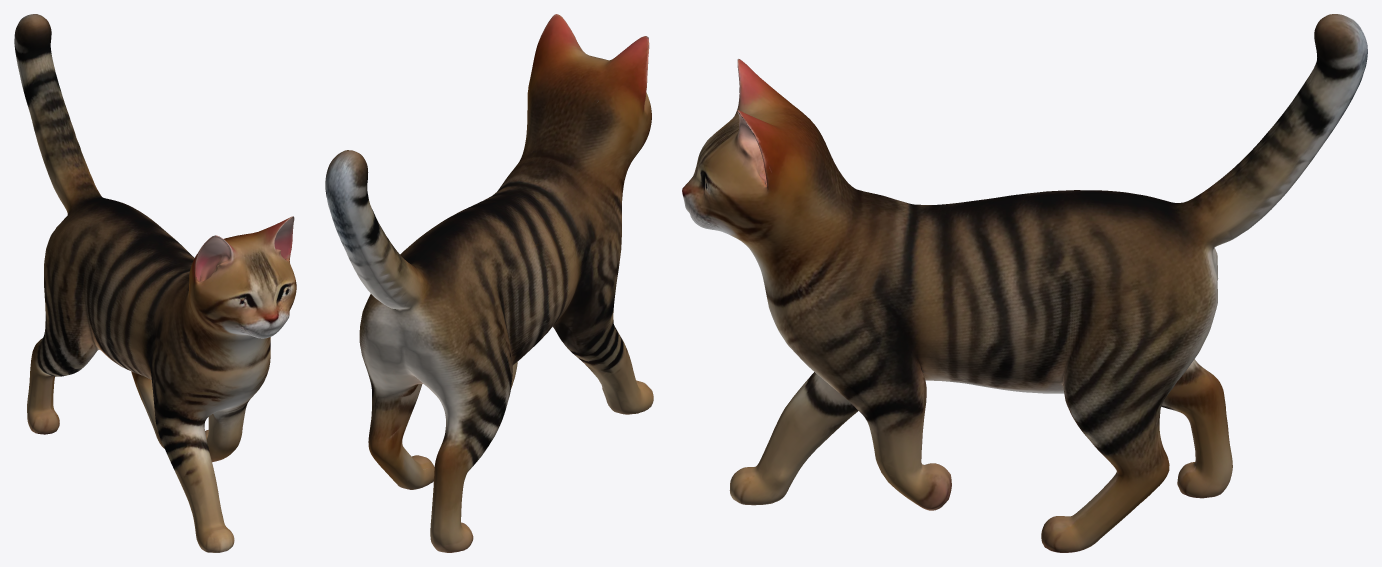
The model's file is cat_walking.glb.
The picture shows the model from 3 angles, left to right: view 1: azimuth 30°, elevation 25°; view 2: azimuth 150°, elevation 25°; view 3: azimuth 270°, elevation 25°; orthographic projection. The views are drawn at different scales.
Visible parts, largest first — view 1: model; view 2: model; view 3: model.
Part boxes in pixels (left/top/right/bottom): model: left=14, top=14, right=296, bottom=552; model: left=325, top=14, right=653, bottom=552; model: left=682, top=14, right=1367, bottom=552.
Bounding box in the file's own units: 0.4841 × 1.53 × 1.9.
Materials: 1 (1 with a texture image).
